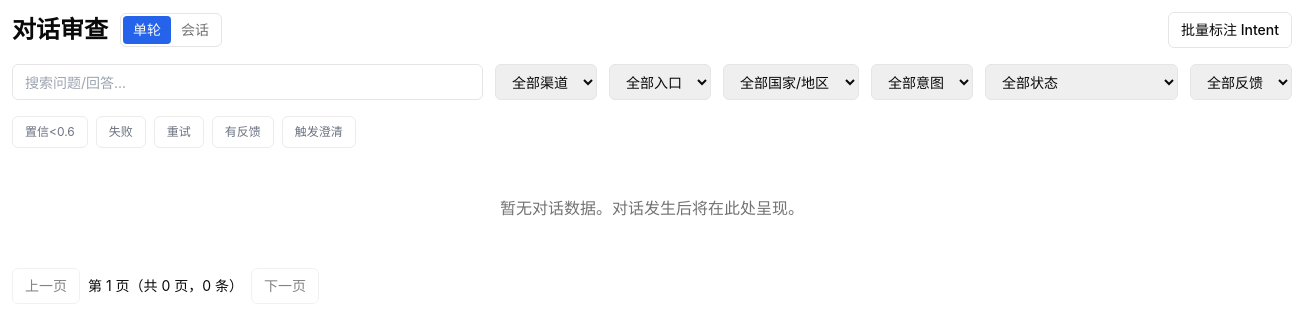
Test: Conversation Review 会话模式(#87) › 切换到会话模式:紧凑线程卡片呈现真实派生字段(首问/轮数/入口/国家)
Click the button "会话".
click(195, 30)  # box left=171, top=16, right=219, bottom=44
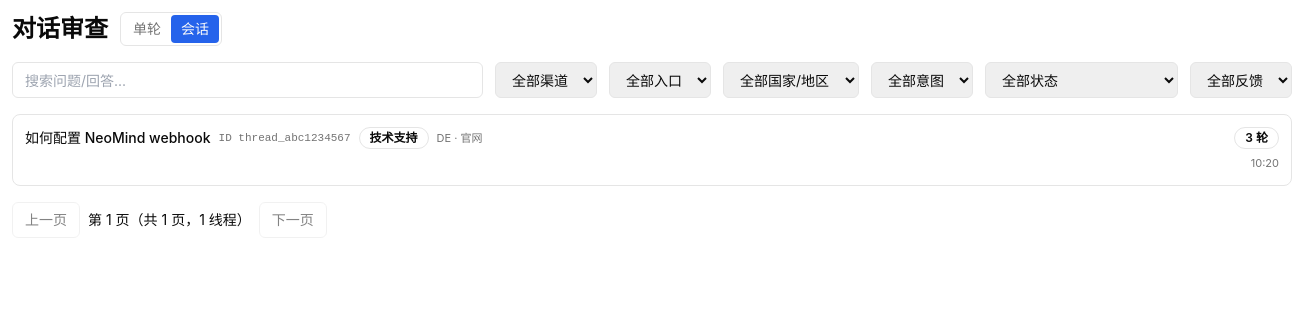
Expected: the element that starts with "如何配置 NeoMind webhook" is shown, left=12, top=114, right=1292, bottom=186
Expected: the text "如何配置 NeoMind webhook" is shown, left=25, top=128, right=210, bottom=148
Expected: the text "3 轮" is shown, left=1234, top=127, right=1279, bottom=149
